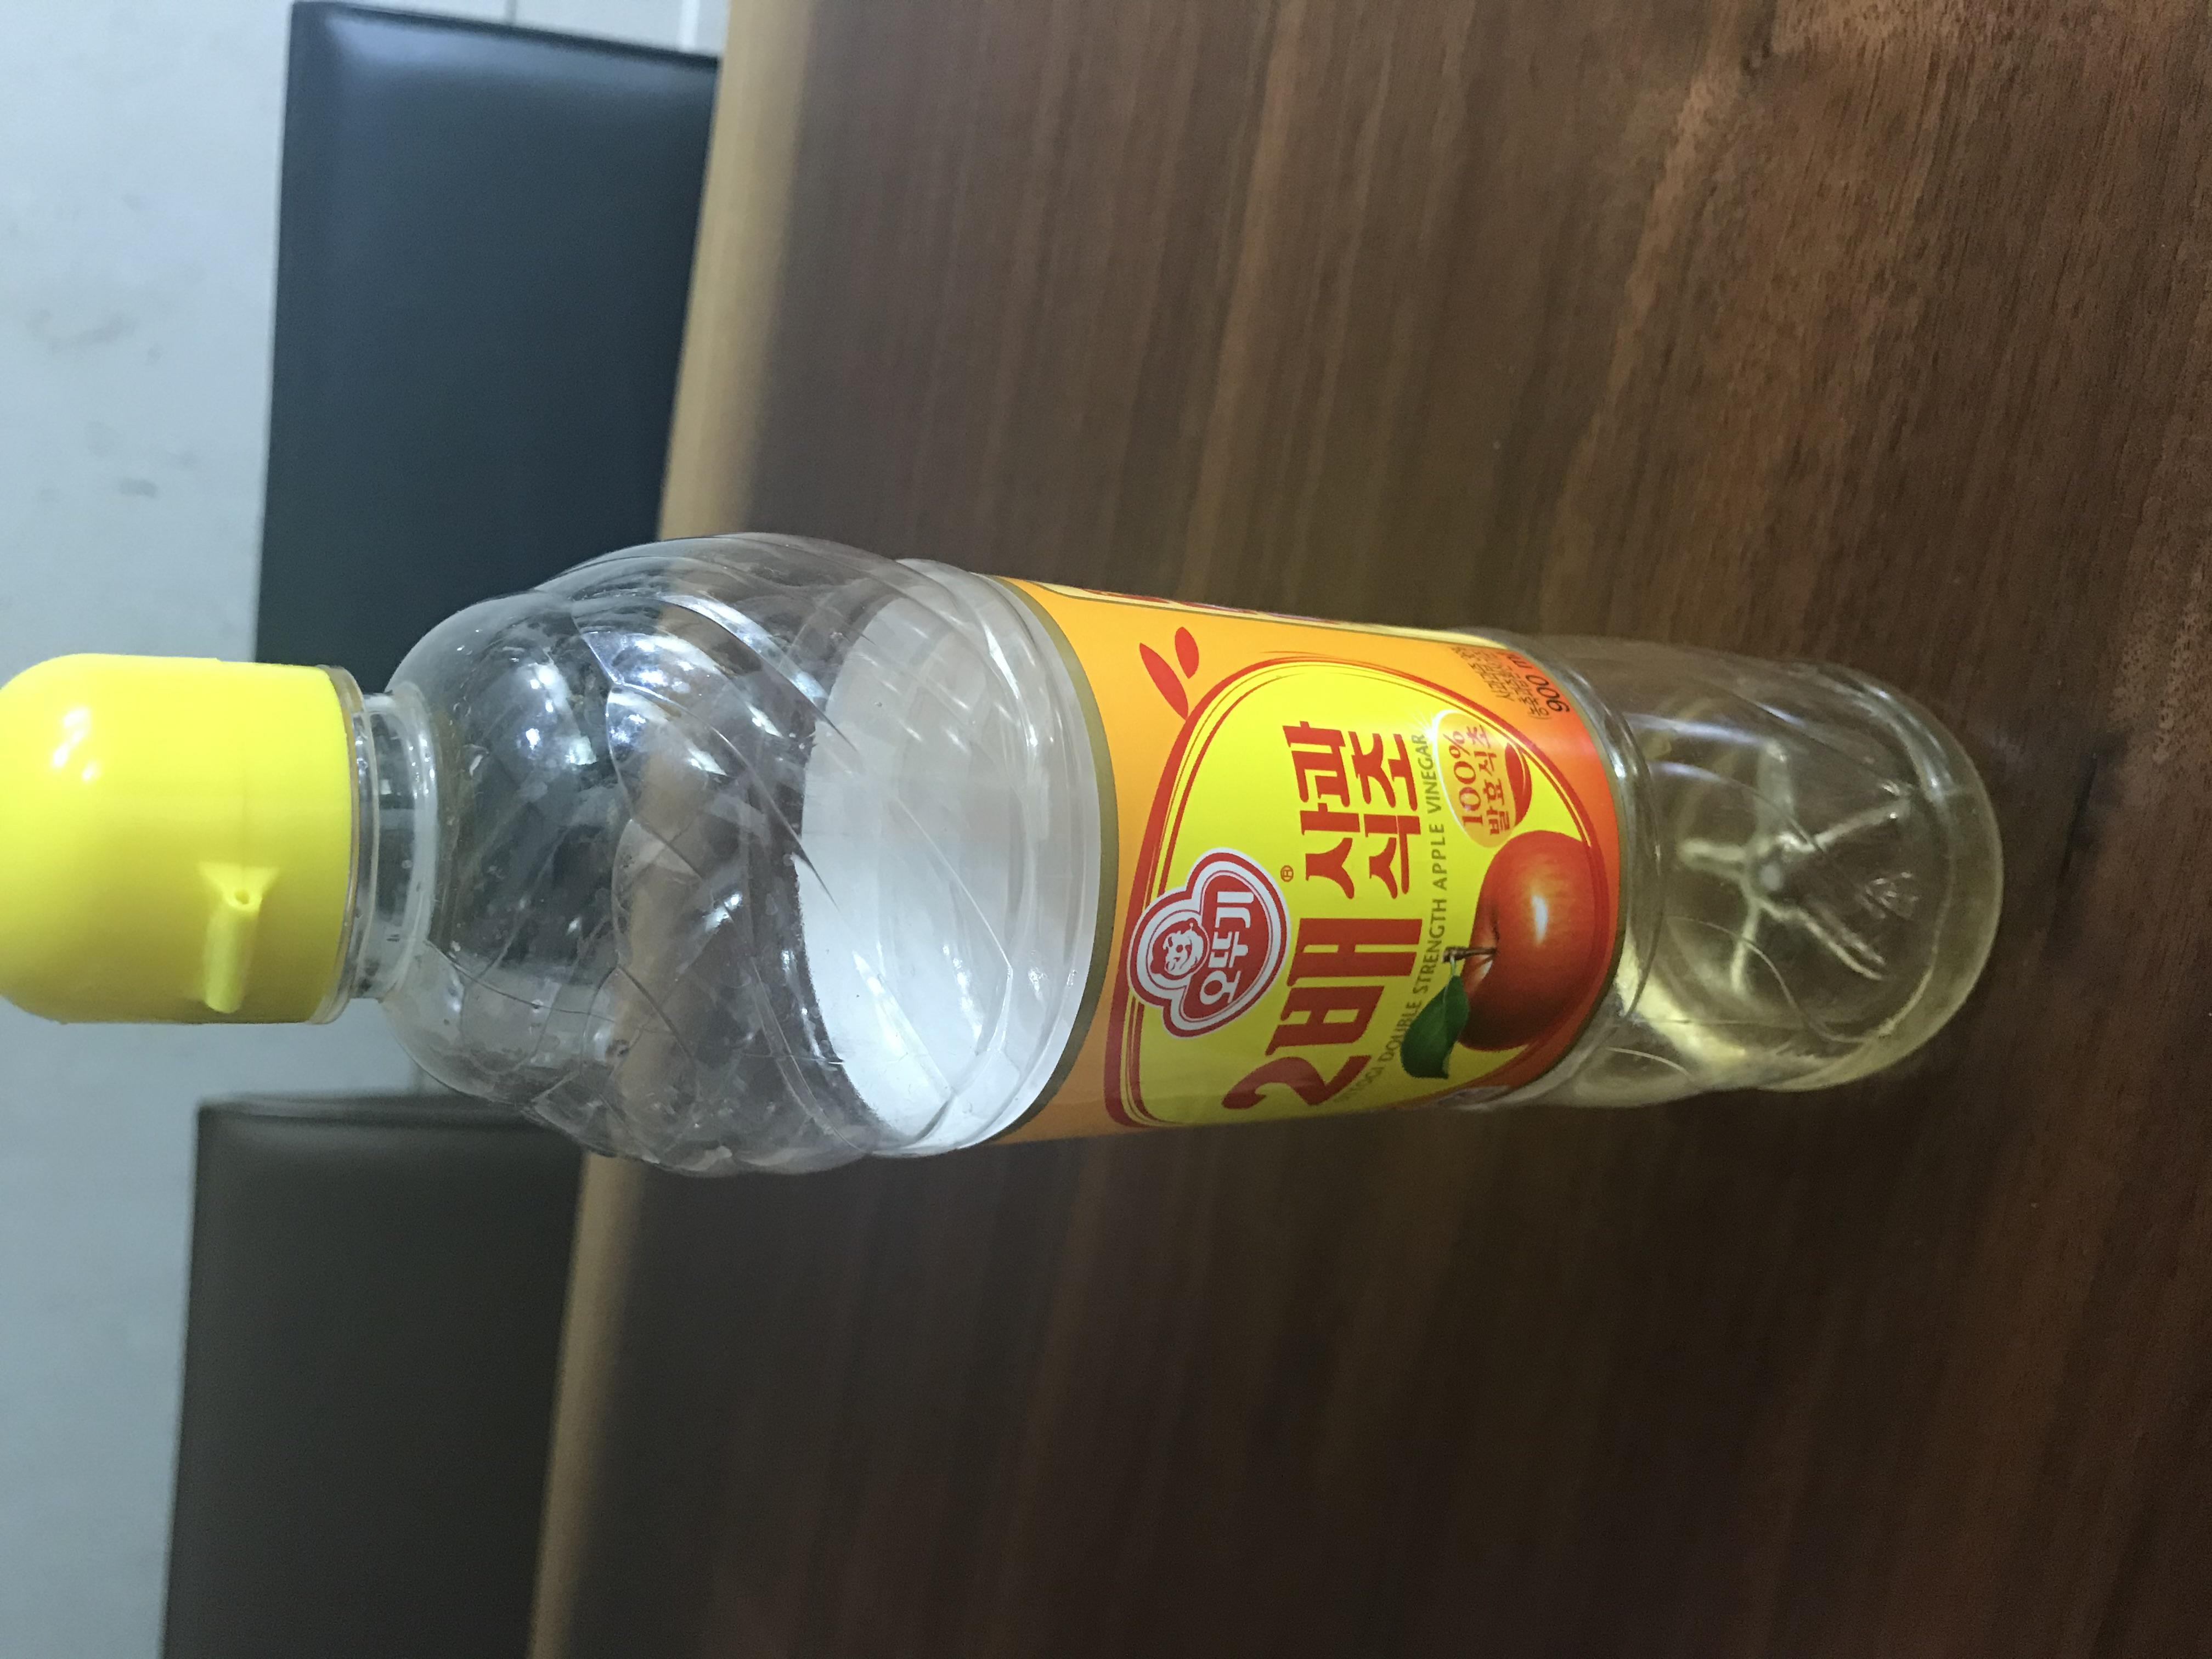bottle: (564, 9, 1235, 1544)
